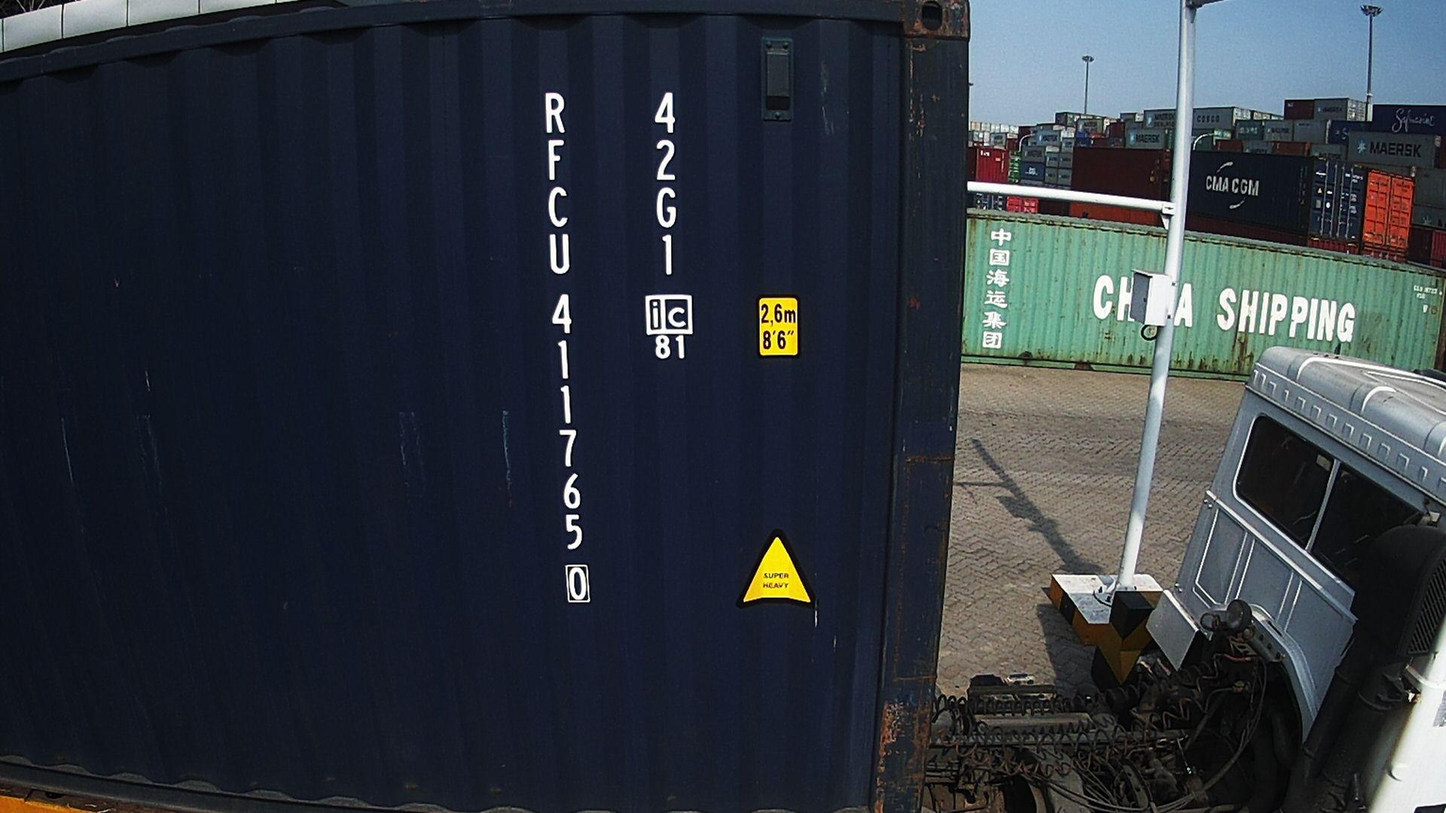container-numbers: (541, 86, 593, 610), (648, 87, 687, 281)
